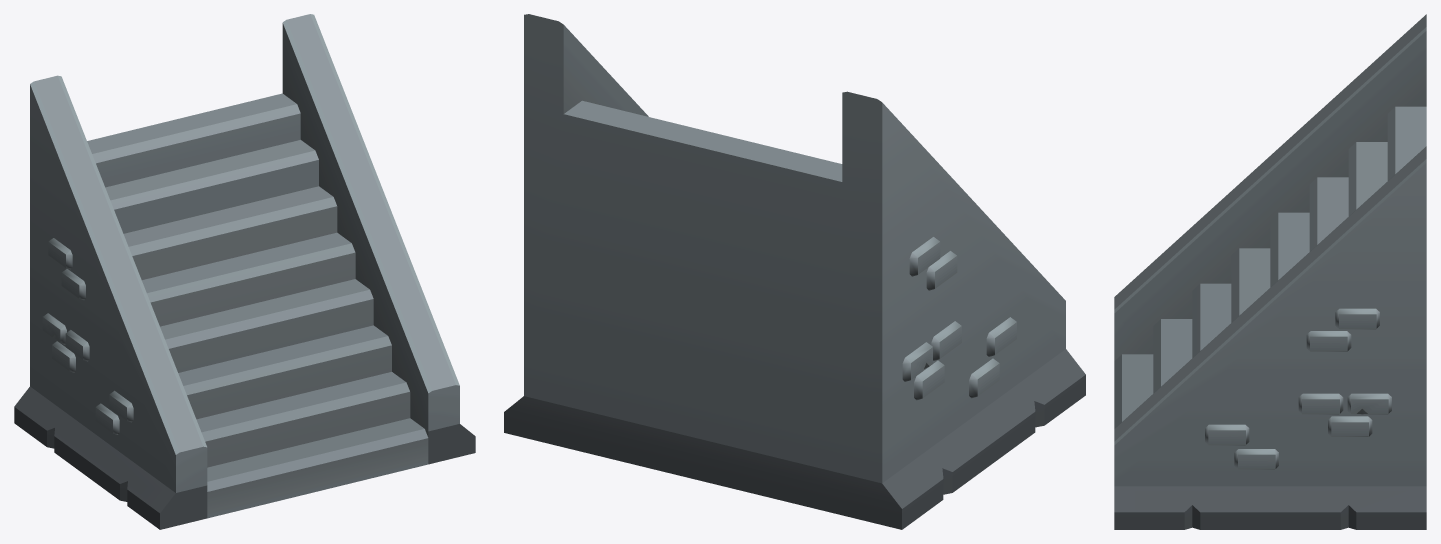
File: stairs.glb
3 renders of one model, left to right at view 1: azimuth 30°, elevation 25°; view 2: azimuth 150°, elevation 25°; view 3: azimuth 270°, elevation 25°, orthographic. The views are drawn at different scales.
Visible parts, largest first — view 1: stairs; view 2: stairs; view 3: stairs.
Boxes of the visible parts, x1,y1,x2,y2 form: stairs: [14, 14, 475, 529]; stairs: [504, 14, 1085, 529]; stairs: [1114, 14, 1426, 529].
Size of the model in its own units: 5 by 5.1 by 4.
Materials: 1 (1 with a texture image).
